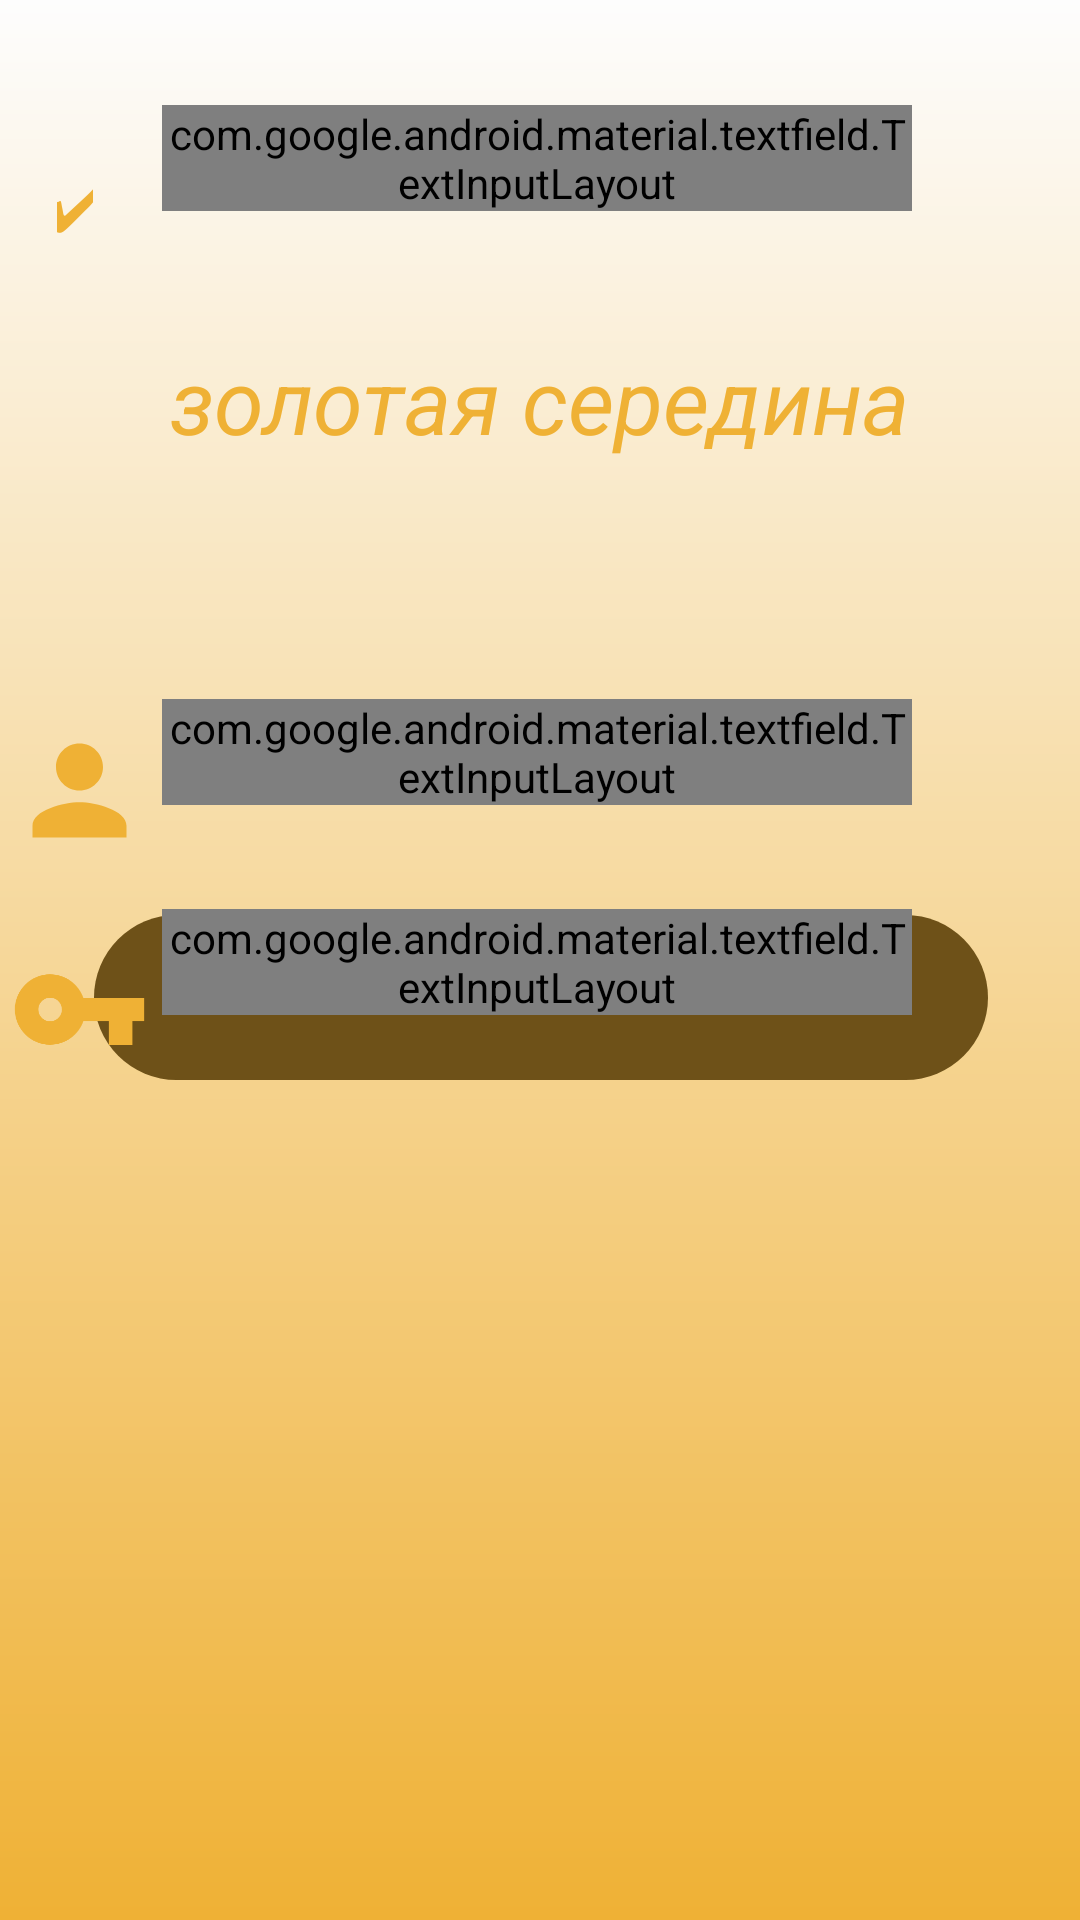

Named icons in this screenshot (1080*1920) and their centers, (x,y):
password: (82,1007)
person: (79,790)
